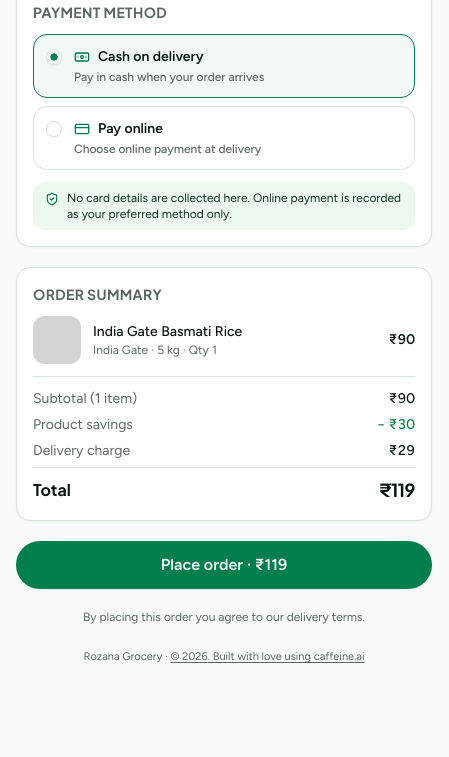
Test case: CheckoutPage › blocks submission and shows inline errors for invalid fields
(page scrolled)
Step 1. Click the button with test id "checkout_place_order_button" → (224, 565), box [16, 541, 432, 589]
(page scrolled)
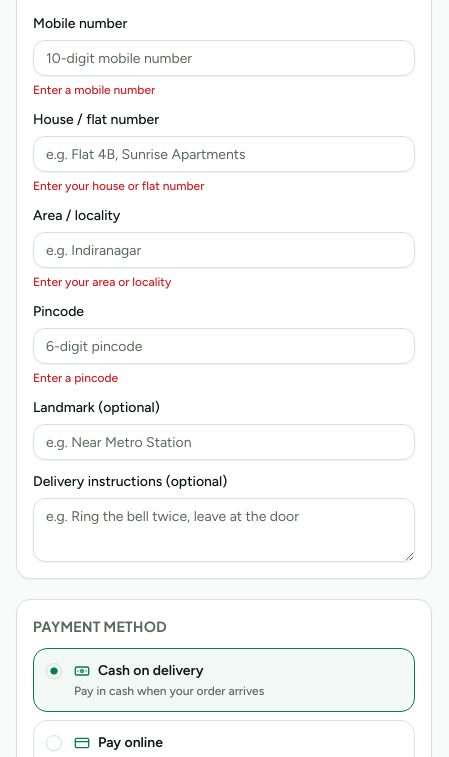
Expected: the text "Enter a mobile number" is shown, [33, 83, 155, 97]
Expected: the text "Enter your house or flat number" is shown, [33, 179, 204, 193]
Expected: the text "Enter your area or locality" is shown, [33, 275, 171, 289]
